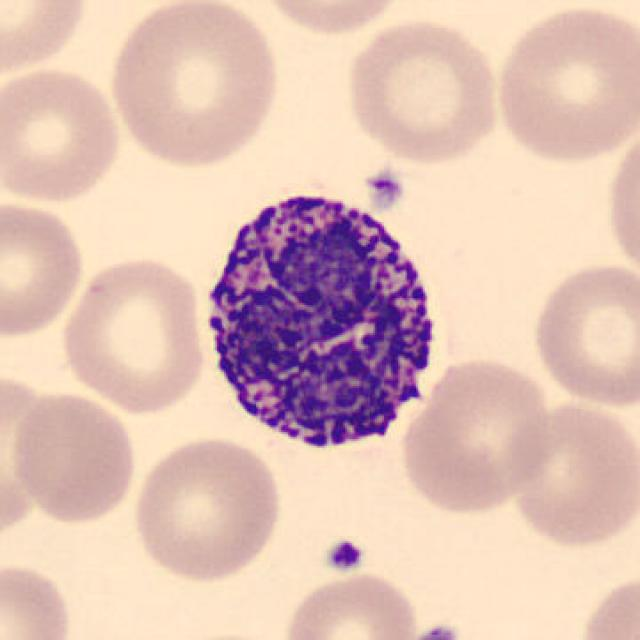Basophil: (187, 169, 460, 473)
Platelets: (361, 166, 407, 212), (322, 536, 368, 577), (409, 620, 466, 640)
RBC: (103, 0, 285, 171), (396, 354, 558, 518), (55, 252, 212, 416), (341, 12, 505, 166), (489, 2, 638, 167), (128, 432, 286, 585), (503, 397, 638, 552), (5, 386, 140, 527), (0, 62, 126, 208), (526, 257, 640, 411), (0, 196, 89, 340), (276, 569, 423, 640), (0, 366, 50, 546), (0, 0, 90, 79), (602, 119, 640, 287), (250, 0, 412, 39), (0, 557, 76, 640), (572, 567, 638, 640), (161, 627, 295, 640)
